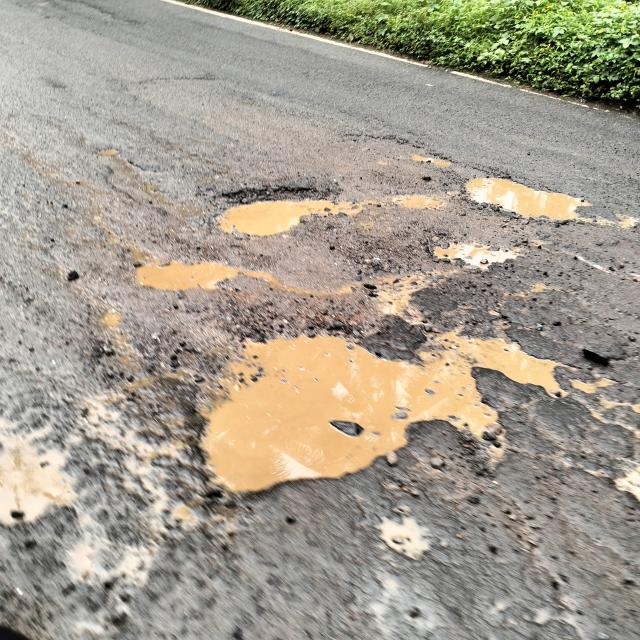pothole: (142, 315, 640, 505), (0, 314, 189, 614), (129, 236, 561, 326), (201, 179, 456, 240), (459, 167, 640, 232), (373, 508, 451, 570), (390, 141, 470, 181), (91, 144, 130, 161)
